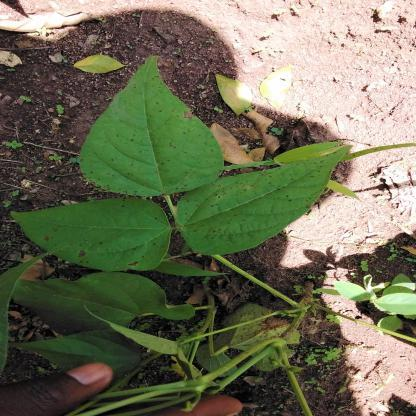Beans_Angular_LeafSpot: (62, 55, 233, 200), (170, 146, 352, 259), (29, 202, 166, 268)
